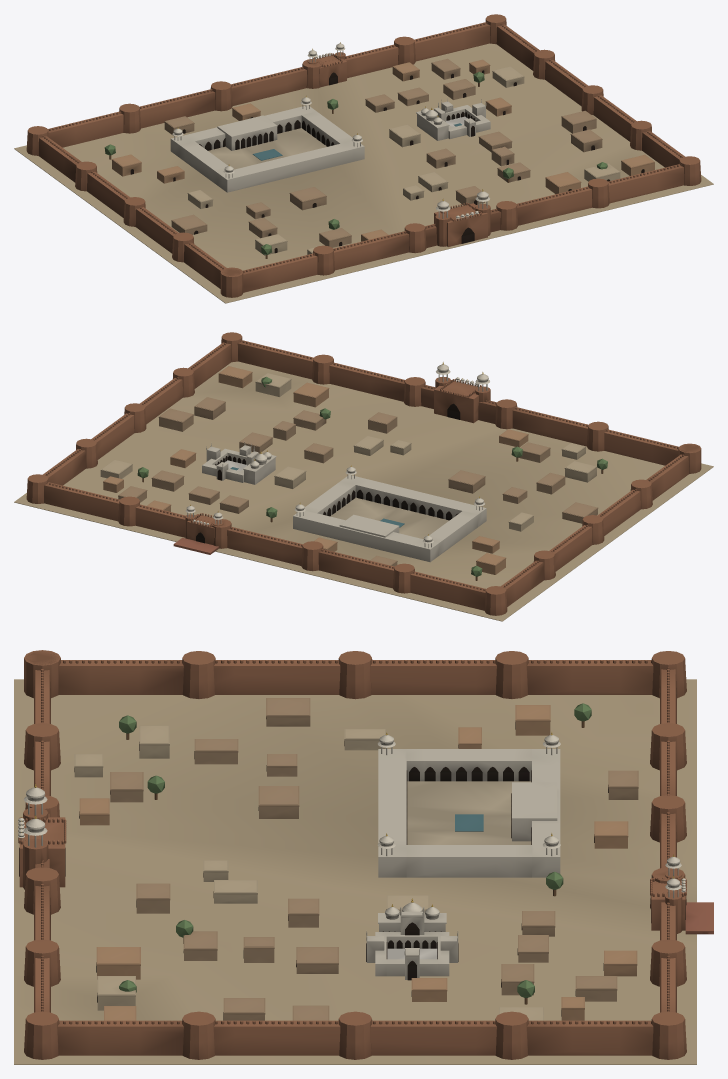
The model's file is patna-fort.glb.
3 views of the same model, one above another, from view 1: azimuth 30°, elevation 25°; view 2: azimuth 150°, elevation 25°; view 3: azimuth 270°, elevation 25° (orthographic). The views are drawn at different scales.
Visible parts, largest first — view 1: p0_walls, p3_quarters, p2_palace and mosque, p1_gates; view 2: p0_walls, p3_quarters, p2_palace and mosque, p1_gates; view 3: p0_walls, p3_quarters, p2_palace and mosque, p1_gates.
Boxes of the visible parts, bbox=[...] form: p0_walls: bbox=[14, 14, 713, 303]; p3_quarters: bbox=[104, 58, 654, 258]; p2_palace and mosque: bbox=[170, 96, 490, 192]; p1_gates: bbox=[307, 42, 490, 246]; p0_walls: bbox=[14, 332, 713, 621]; p3_quarters: bbox=[100, 366, 607, 580]; p2_palace and mosque: bbox=[202, 442, 486, 562]; p1_gates: bbox=[173, 362, 490, 554]; p0_walls: bbox=[14, 650, 696, 1064]; p3_quarters: bbox=[74, 698, 638, 1020]; p2_palace and mosque: bbox=[366, 732, 560, 980]; p1_gates: bbox=[18, 784, 713, 934].
Bounding box in the file's own units: 320 × 28.69 × 246.
